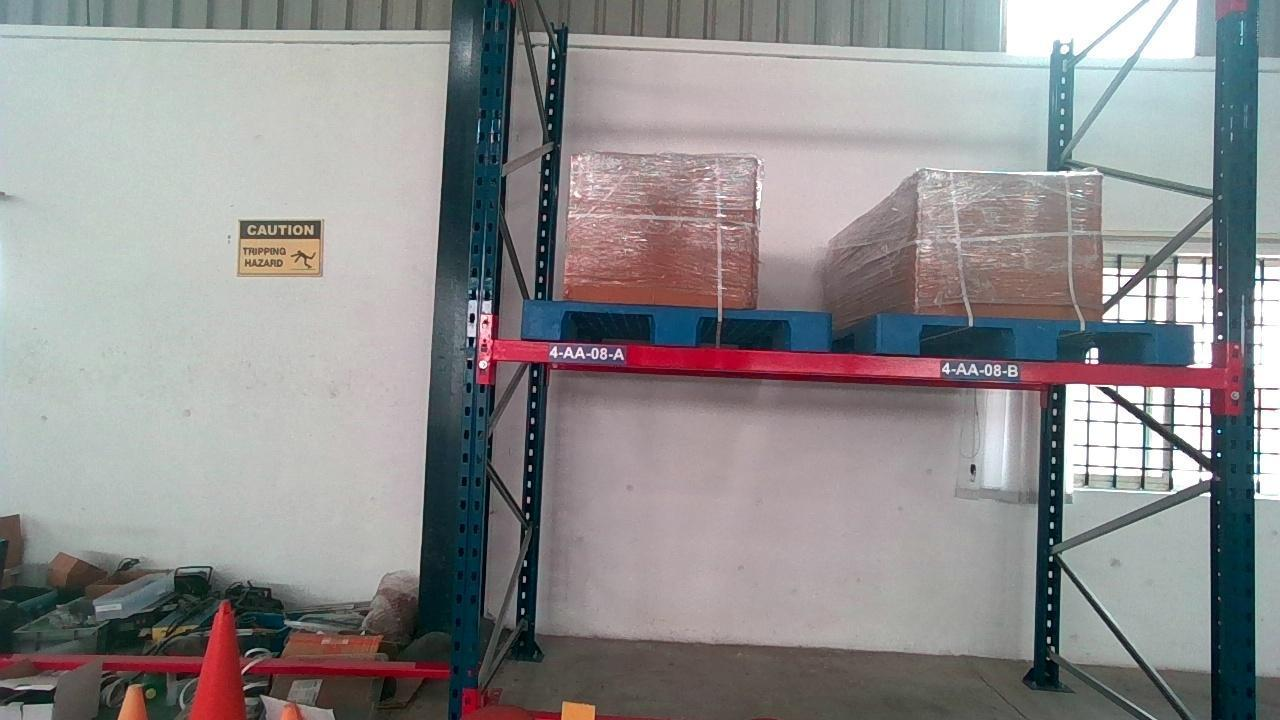h_rack: (491, 339, 1215, 388)
small_pallet: (876, 317, 1191, 359), (523, 304, 826, 345)
